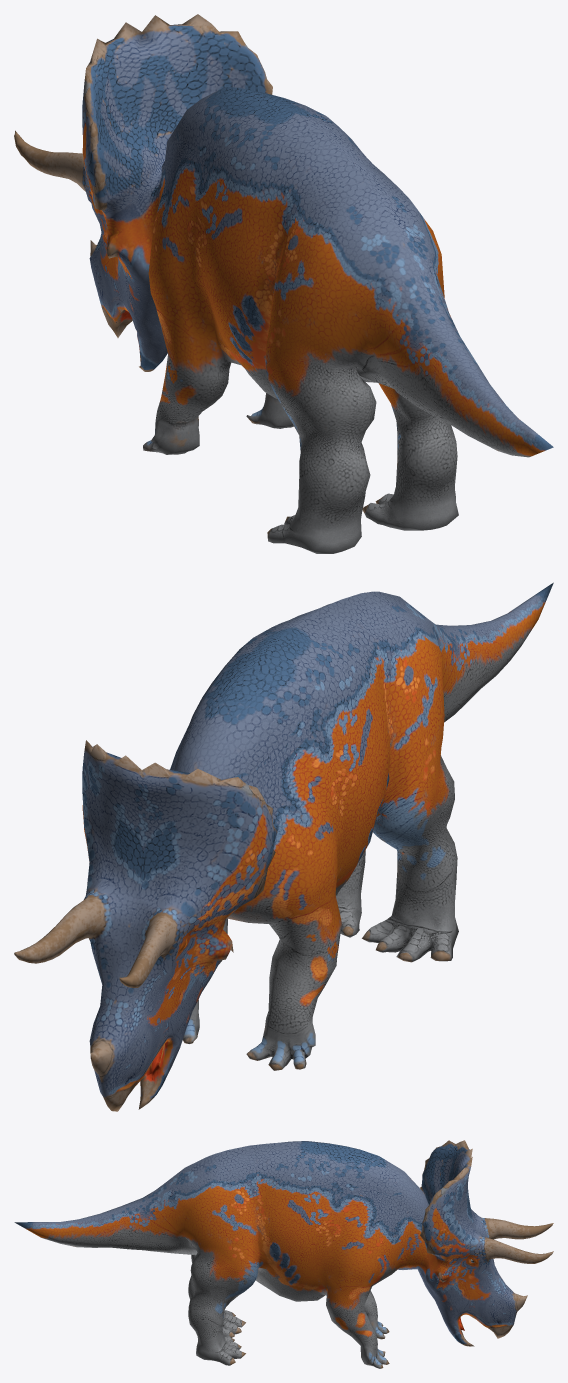
The picture shows the model from 3 angles, top to bottom: view 1: azimuth 30°, elevation 25°; view 2: azimuth 150°, elevation 25°; view 3: azimuth 270°, elevation 25°; orthographic projection. The views are drawn at different scales.
Visible parts, largest first — view 1: lp_trike2; view 2: lp_trike2; view 3: lp_trike2.
Part boxes in pixels (<box>): lp_trike2: <box>14,14,553,553</box>; lp_trike2: <box>14,582,553,1111</box>; lp_trike2: <box>14,1140,553,1368</box>.
Bounding box in the file's own units: 15.15 × 29.3 × 69.39.
Materials: 2 (2 with a texture image).
